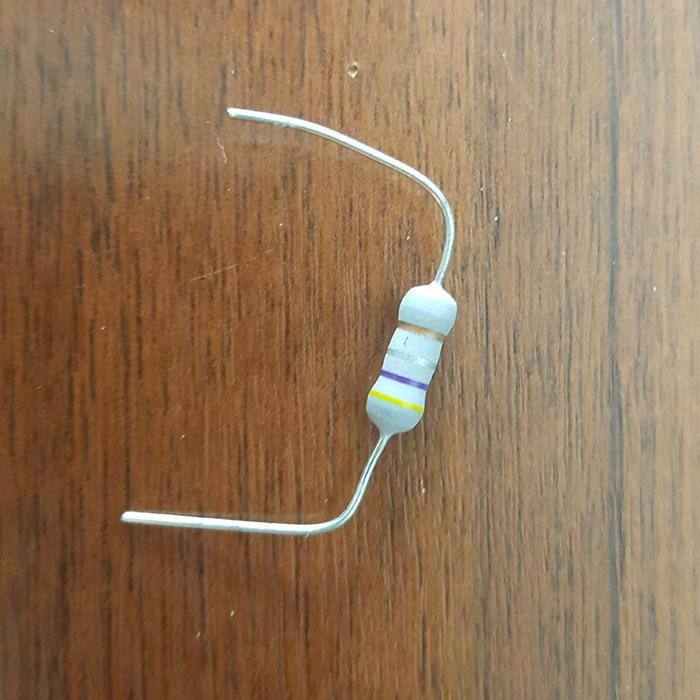resistor: (365, 282, 457, 436)
